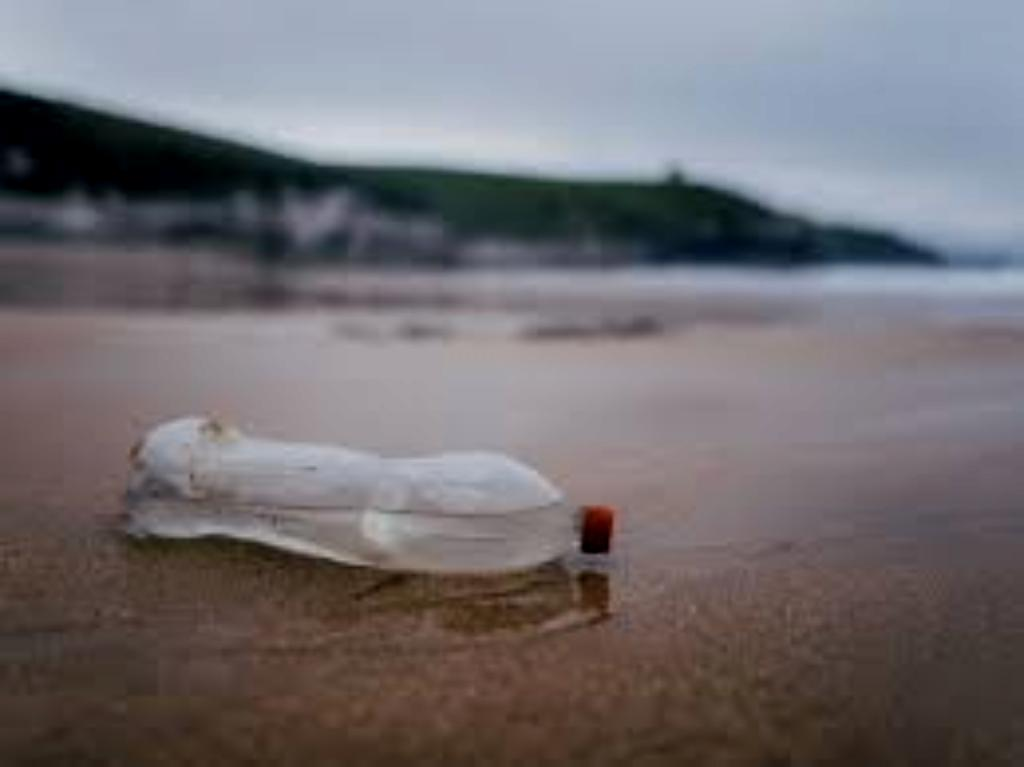garbage: (117, 389, 666, 623)
